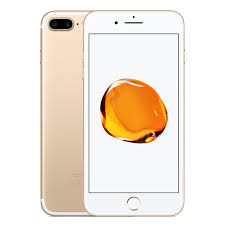iphone: (80, 8, 184, 217)
iphone7: (82, 8, 186, 217)
